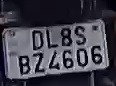0: (76, 48, 92, 70)
4: (47, 52, 63, 72)
6: (89, 45, 103, 68), (61, 48, 74, 70)
8: (59, 27, 73, 46)
B: (16, 54, 34, 77)
D: (30, 31, 47, 51)
L: (43, 29, 58, 50)
S: (73, 25, 89, 48)
Z: (32, 52, 47, 75)
